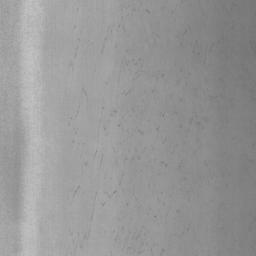Silk spot: (101, 3, 150, 54), (113, 226, 165, 256), (64, 110, 88, 144), (100, 107, 123, 131), (179, 112, 207, 131), (120, 58, 143, 80), (93, 190, 117, 209), (69, 229, 90, 248)
